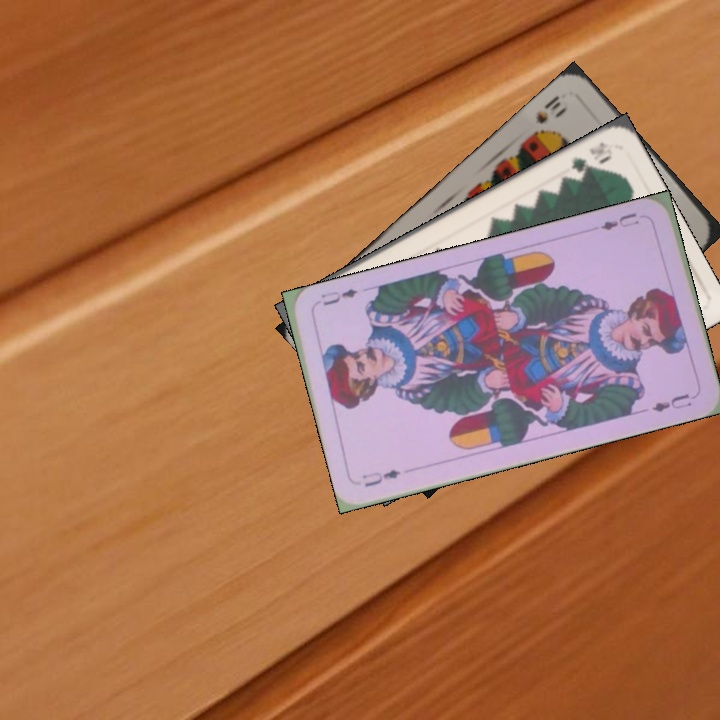EU: (596, 208, 642, 233), (358, 465, 403, 490)
G10: (567, 138, 614, 175)
S10: (531, 91, 571, 127)
